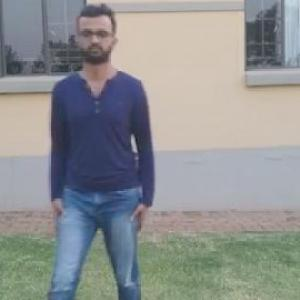follow: (43, 4, 150, 299)
